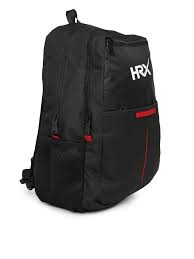backpack: (19, 8, 160, 213)
